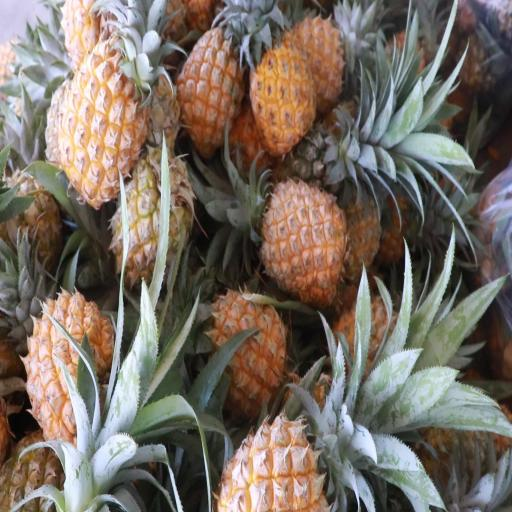------------------------------: (114, 156, 191, 284)
Pineapple - v8 v1: (62, 46, 149, 204), (32, 291, 116, 445), (218, 404, 332, 512), (261, 181, 346, 296), (207, 292, 289, 402), (179, 21, 248, 143), (250, 44, 316, 154)
